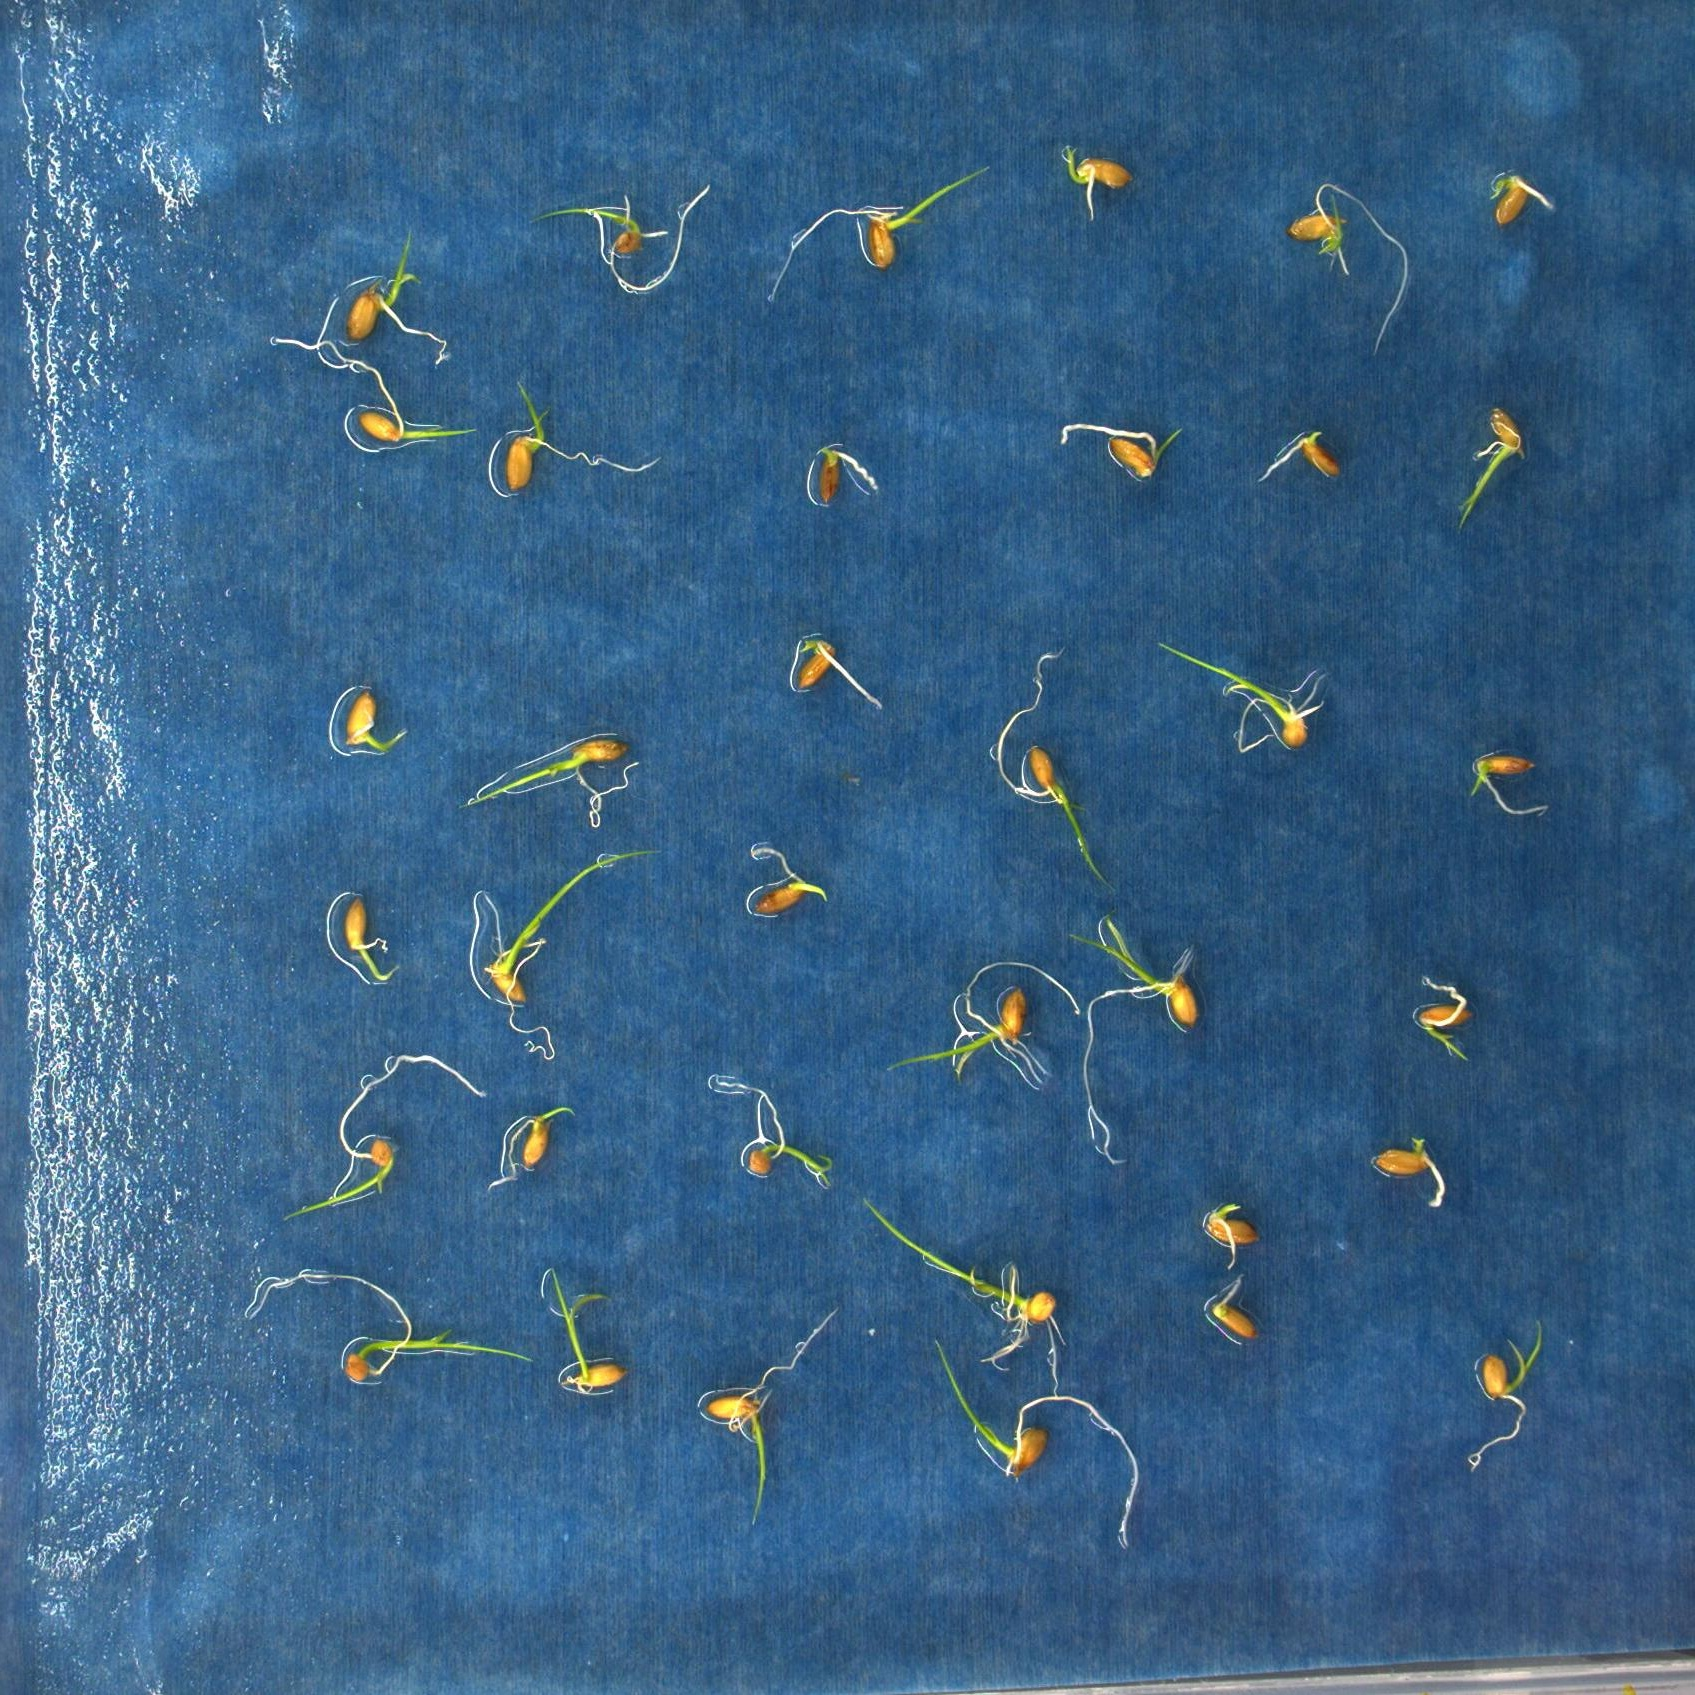not sprout: (262, 323, 487, 466), (795, 626, 886, 712), (1246, 416, 1350, 489), (1371, 1128, 1451, 1211), (1197, 1270, 1270, 1343), (807, 441, 880, 509), (1197, 1206, 1267, 1267)
sprout: (857, 1180, 1073, 1402), (930, 1333, 1139, 1552), (459, 840, 655, 1062), (979, 638, 1133, 910), (248, 1263, 549, 1392), (276, 1042, 487, 1215), (764, 165, 995, 323), (1076, 920, 1209, 1173), (705, 1307, 837, 1538), (866, 956, 1087, 1093), (525, 185, 733, 310), (1287, 168, 1406, 363), (483, 369, 652, 504), (1152, 638, 1327, 767), (334, 220, 458, 380), (453, 734, 650, 827), (532, 1243, 638, 1406), (706, 1062, 840, 1189), (1458, 1307, 1551, 1479), (1447, 396, 1535, 539), (1450, 745, 1566, 829), (1055, 407, 1184, 480), (477, 1101, 581, 1191), (1403, 967, 1490, 1069), (737, 840, 830, 920), (324, 678, 407, 757), (337, 894, 404, 987), (1060, 141, 1128, 217), (1484, 165, 1549, 236)
